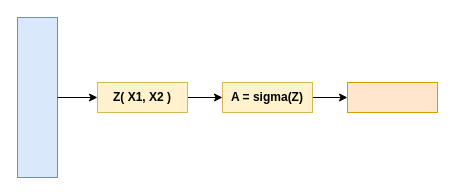
Some shapes in this 455 by 195 pixel diagram are drawn without their labels. The centre of each missing label's shape, as x and y in pixels:
Loss(y, a): point 392,97
X1 W1 X2 W2 B: point 37,97
